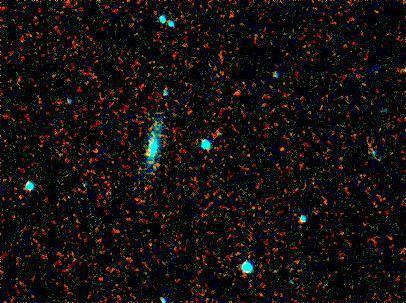star: (175, 96, 205, 126)
